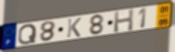1: (137, 7, 148, 30)
8: (40, 21, 57, 43), (89, 14, 106, 36)
H: (113, 8, 135, 34)
K: (66, 17, 83, 38)
Q: (17, 23, 38, 46)
